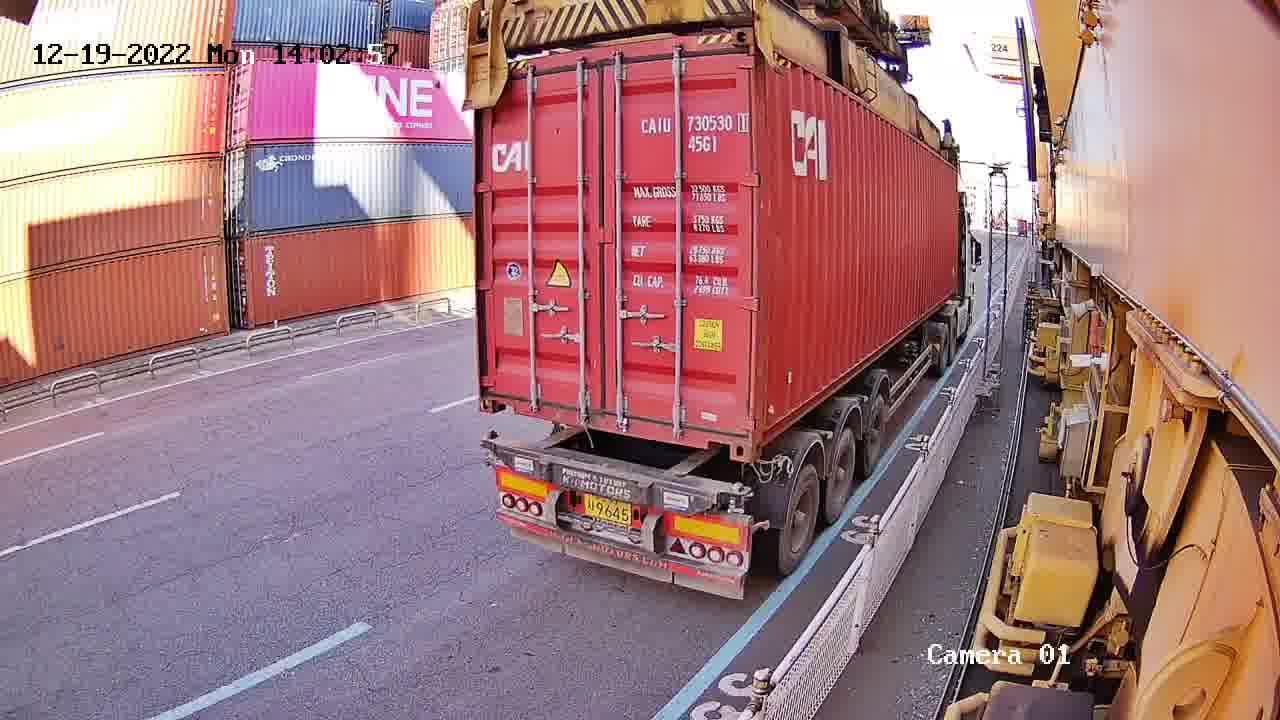Chassis: (483, 432, 751, 518)
Cone: (723, 482, 746, 516), (479, 429, 498, 465)
Hole_L: (751, 400, 776, 462), (479, 378, 516, 415)
Hole_R: (704, 413, 751, 461)
Tire: (780, 467, 819, 571), (827, 430, 857, 524), (863, 397, 887, 473)
